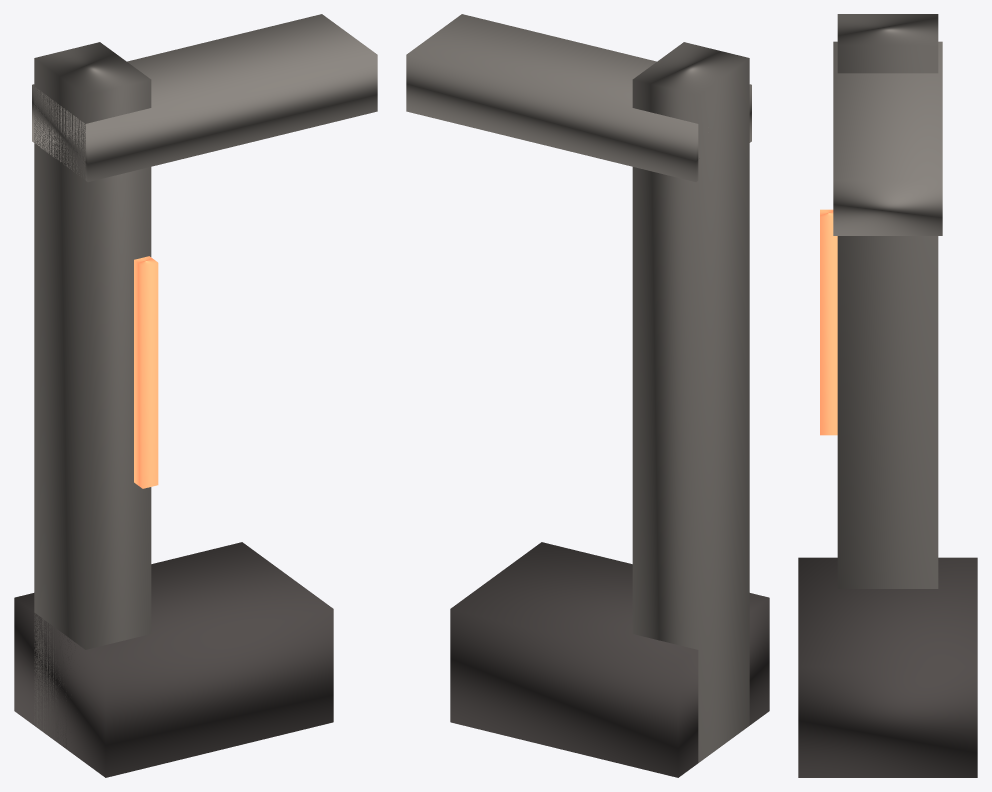
File: damaged-vessel-broken-rib-lod2.glb
3 views of the same model, side by side, from view 1: azimuth 30°, elevation 25°; view 2: azimuth 150°, elevation 25°; view 3: azimuth 270°, elevation 25° (orthographic).
Visible parts, largest first — view 1: damaged-vessel-broken-rib-spine, damaged-vessel-broken-rib-foot, damaged-vessel-broken-rib-shoulder, damaged-vessel-broken-rib-scar; view 2: damaged-vessel-broken-rib-spine, damaged-vessel-broken-rib-foot, damaged-vessel-broken-rib-shoulder; view 3: damaged-vessel-broken-rib-spine, damaged-vessel-broken-rib-foot, damaged-vessel-broken-rib-shoulder, damaged-vessel-broken-rib-scar.
Part boxes in pixels (x1,y1,x2,y2): damaged-vessel-broken-rib-spine: [34, 42, 151, 751]; damaged-vessel-broken-rib-foot: [14, 542, 333, 777]; damaged-vessel-broken-rib-shoulder: [32, 14, 377, 181]; damaged-vessel-broken-rib-scar: [134, 256, 158, 488]; damaged-vessel-broken-rib-spine: [632, 42, 749, 762]; damaged-vessel-broken-rib-foot: [450, 542, 769, 777]; damaged-vessel-broken-rib-shoulder: [406, 14, 751, 181]; damaged-vessel-broken-rib-spine: [837, 14, 938, 588]; damaged-vessel-broken-rib-foot: [798, 557, 977, 777]; damaged-vessel-broken-rib-shoulder: [833, 41, 942, 235]; damaged-vessel-broken-rib-scar: [820, 209, 837, 435].
Size of the model in its own units: 1.5 by 3.3 by 0.82.
